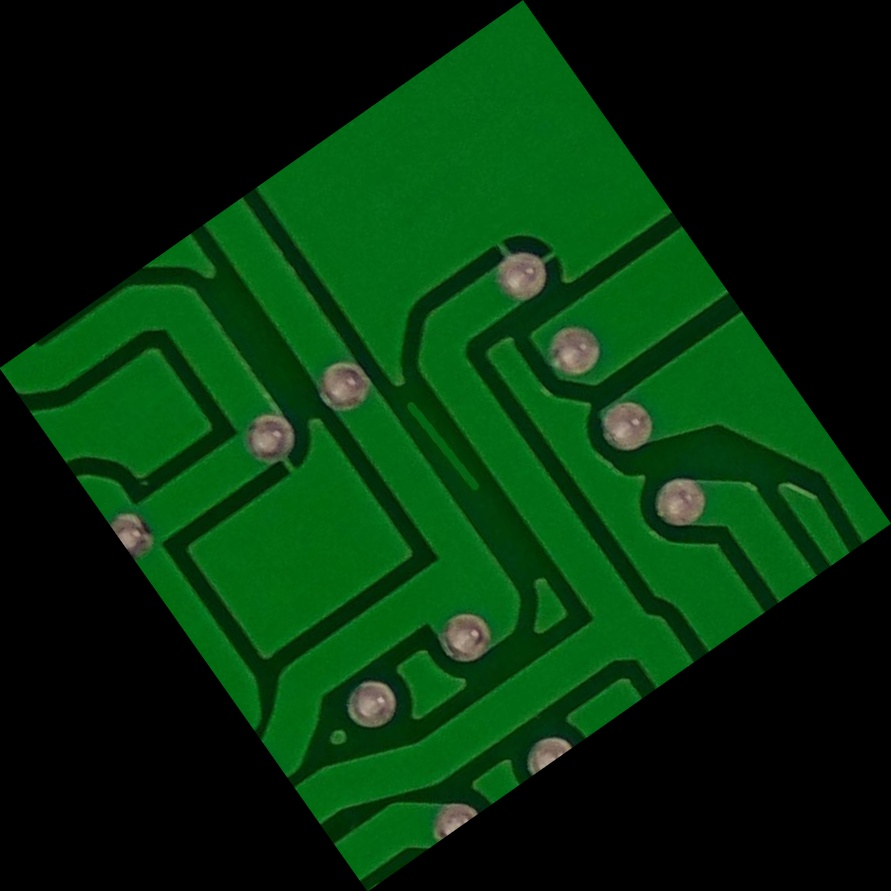spurious_copper: (383, 374, 509, 517)
